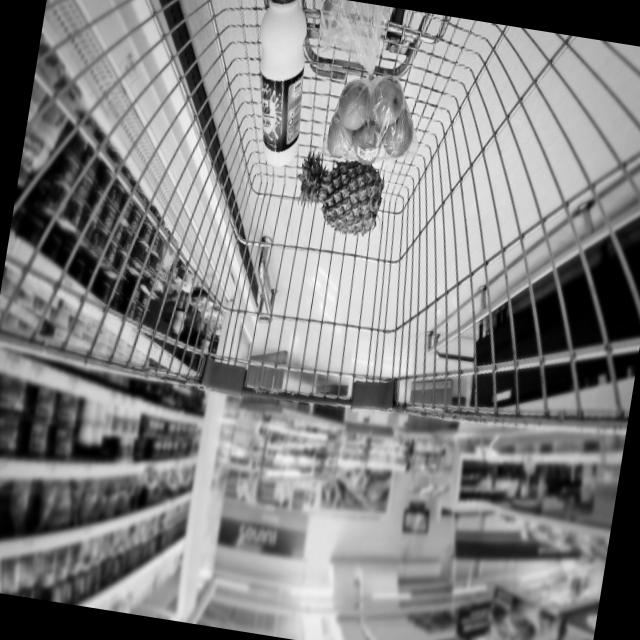dua: (288, 148, 389, 242)
sua: (235, 0, 323, 173)
tao: (322, 70, 426, 174)
